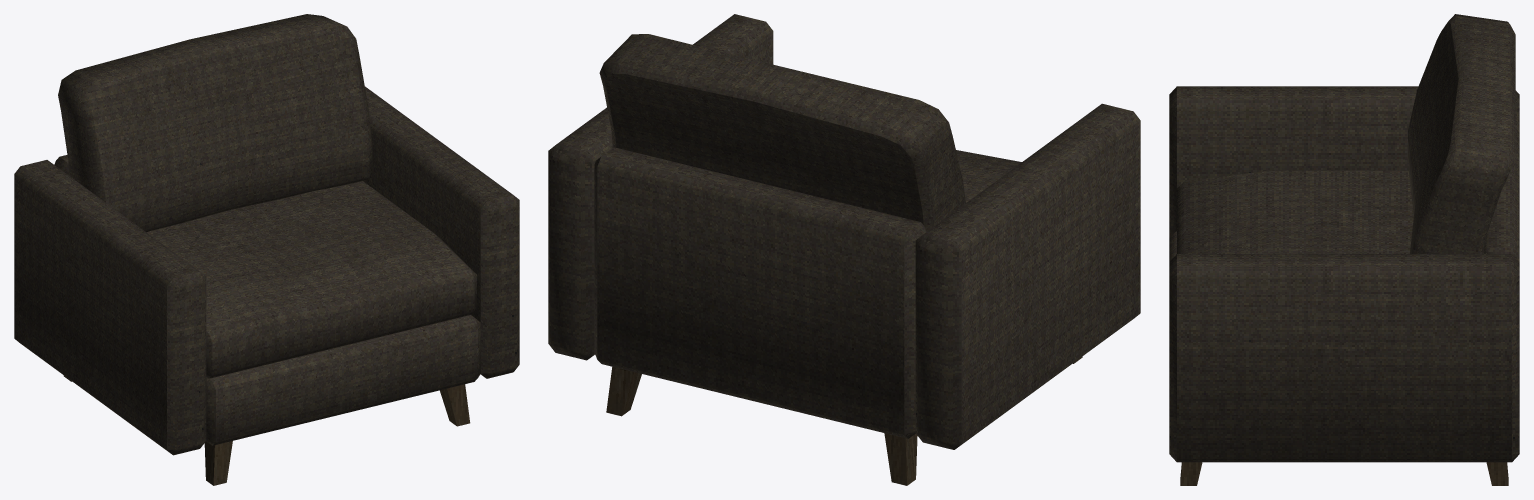
Rendered from armchair_2_3.glb.
3 renders of one model, left to right at view 1: azimuth 30°, elevation 25°; view 2: azimuth 150°, elevation 25°; view 3: azimuth 270°, elevation 25°, orthographic. The views are drawn at different scales.
Visible parts, largest first — view 1: armchair_2_3; view 2: armchair_2_3; view 3: armchair_2_3.
Part boxes in pixels (x1=…): armchair_2_3: x1=14, y1=14, x2=519, y2=485; armchair_2_3: x1=548, y1=14, x2=1140, y2=485; armchair_2_3: x1=1169, y1=14, x2=1519, y2=485.
Bounding box in the file's own units: 1.26 × 1.07 × 0.99.
Materials: 2 (2 with a texture image).
